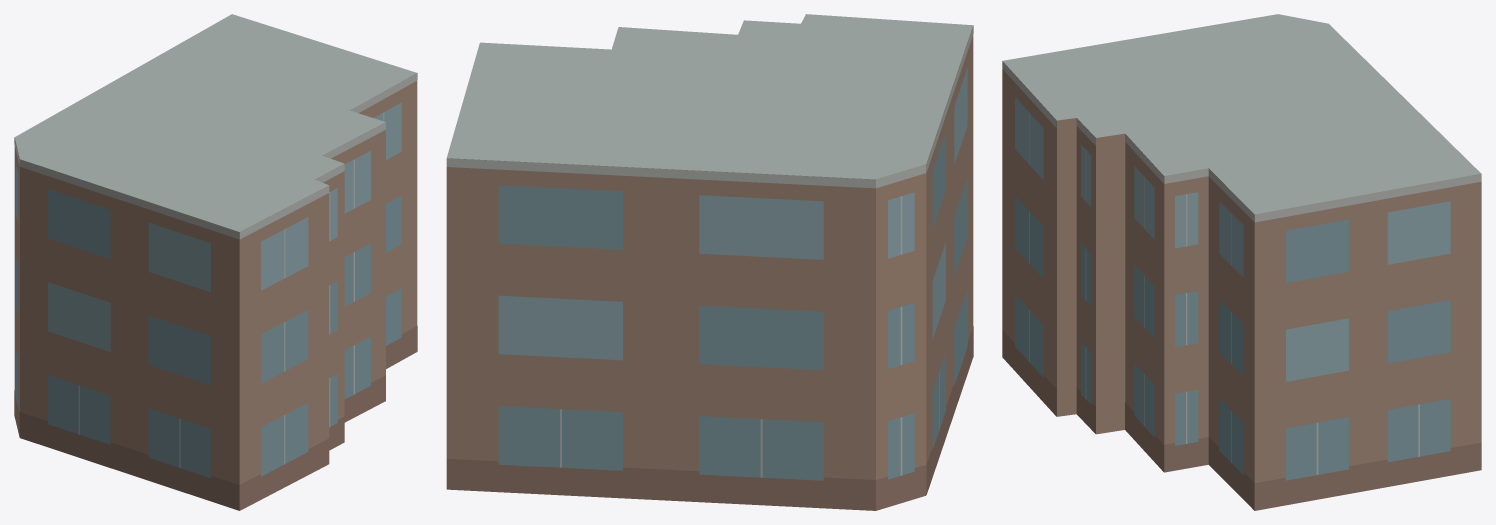
Rendered from survey-upis-32990616.glb.
3 views of the same model, side by side, from view 1: azimuth 30°, elevation 25°; view 2: azimuth 150°, elevation 25°; view 3: azimuth 270°, elevation 25° (orthographic). The views are drawn at different scales.
Parts seen in each view (by area): view 1: survey-upis-32990616.tmp; view 2: survey-upis-32990616.tmp; view 3: survey-upis-32990616.tmp.
Part boxes in pixels (<box>): survey-upis-32990616.tmp: <box>14,14,417,510</box>; survey-upis-32990616.tmp: <box>446,14,973,510</box>; survey-upis-32990616.tmp: <box>1002,14,1481,510</box>.
Bounding box in the file's own units: 13.21 × 9.1 × 13.34.
